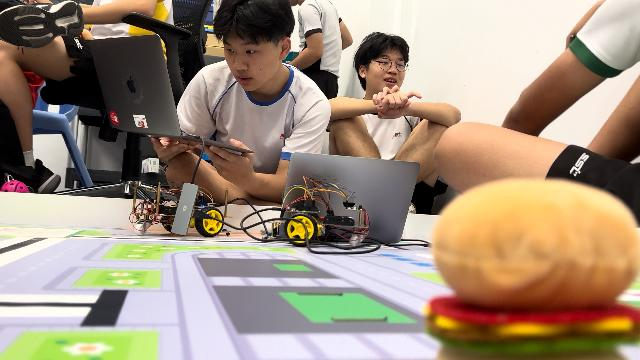burger: (422, 176, 640, 360)
